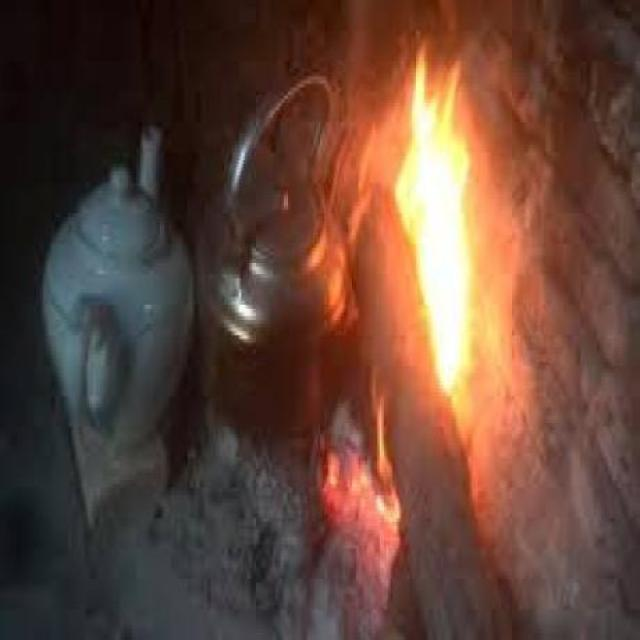Fire: (372, 31, 499, 412), (341, 410, 441, 560)
